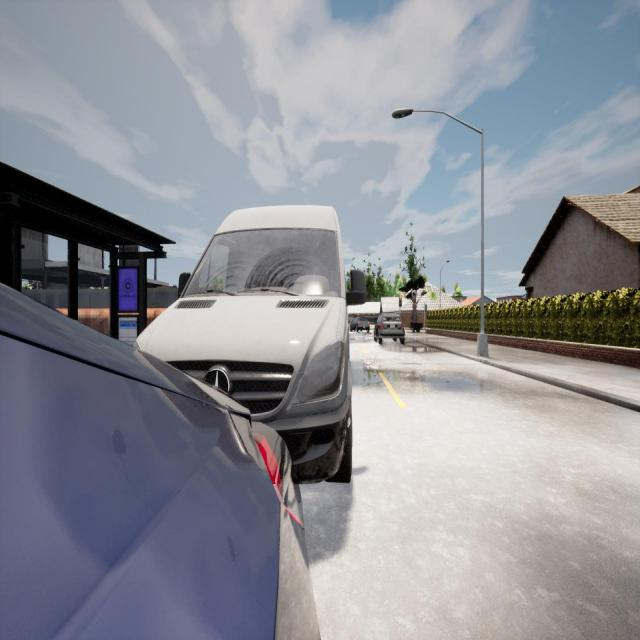Vehicle: (0, 283, 319, 638), (131, 204, 366, 486), (373, 312, 405, 344), (350, 316, 370, 333)
traffic_light: (398, 295, 402, 307)
